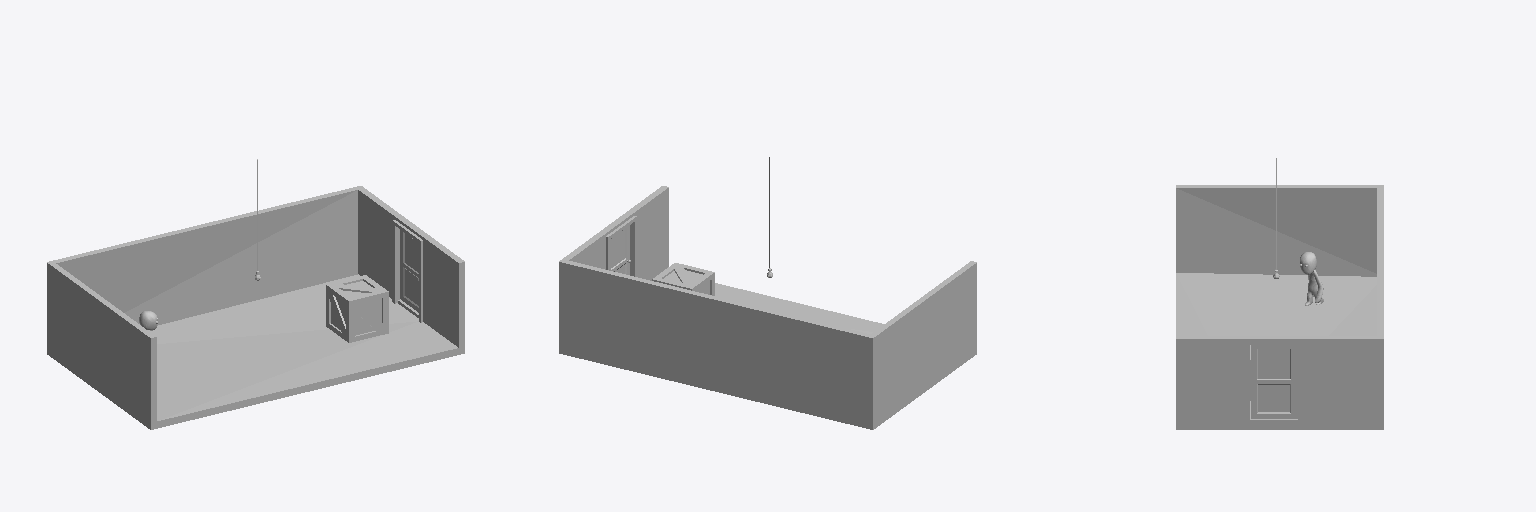
Rendered from SceneCleaned.obj.
3 renders of one model, left to right at view 1: azimuth 30°, elevation 25°; view 2: azimuth 150°, elevation 25°; view 3: azimuth 270°, elevation 25°, orthographic.
Parts seen in each view (by area): view 1: scene; view 2: scene; view 3: scene.
Part boxes in pixels (left/top/right/bottom): scene: left=47, top=159, right=464, bottom=429; scene: left=559, top=157, right=976, bottom=429; scene: left=1176, top=158, right=1383, bottom=429.
Bounding box in the file's own units: 158 × 93.52 × 90.45.